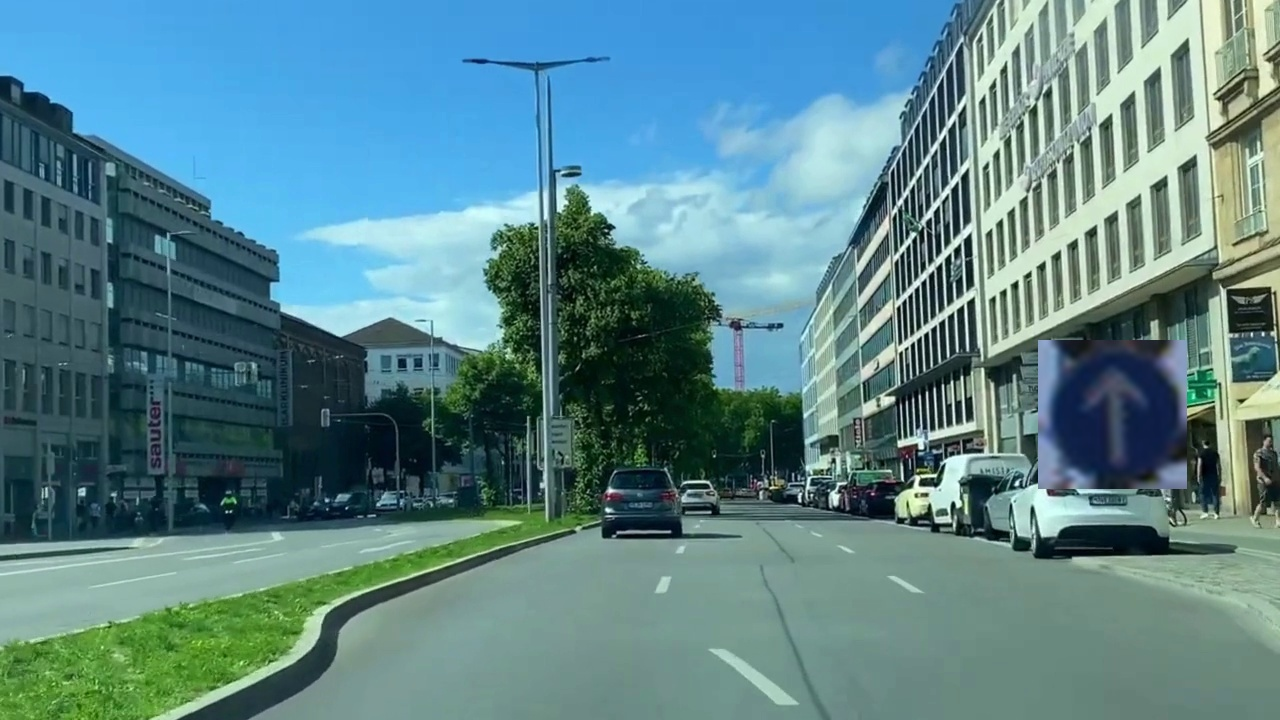Ahead only: (1038, 340, 1187, 489)
